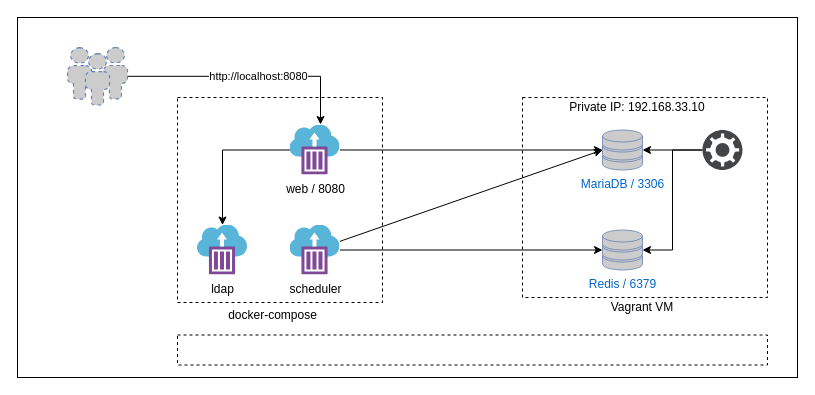
The diagram is 815 pixels wide and 395 high, and some of its shapes have lost their labels. The box of each missing label's shape, as (x1, y1, x2, y2) in pixels:
Celery Worker: (702, 130, 742, 170)
Host Machine: (176, 334, 768, 365)
